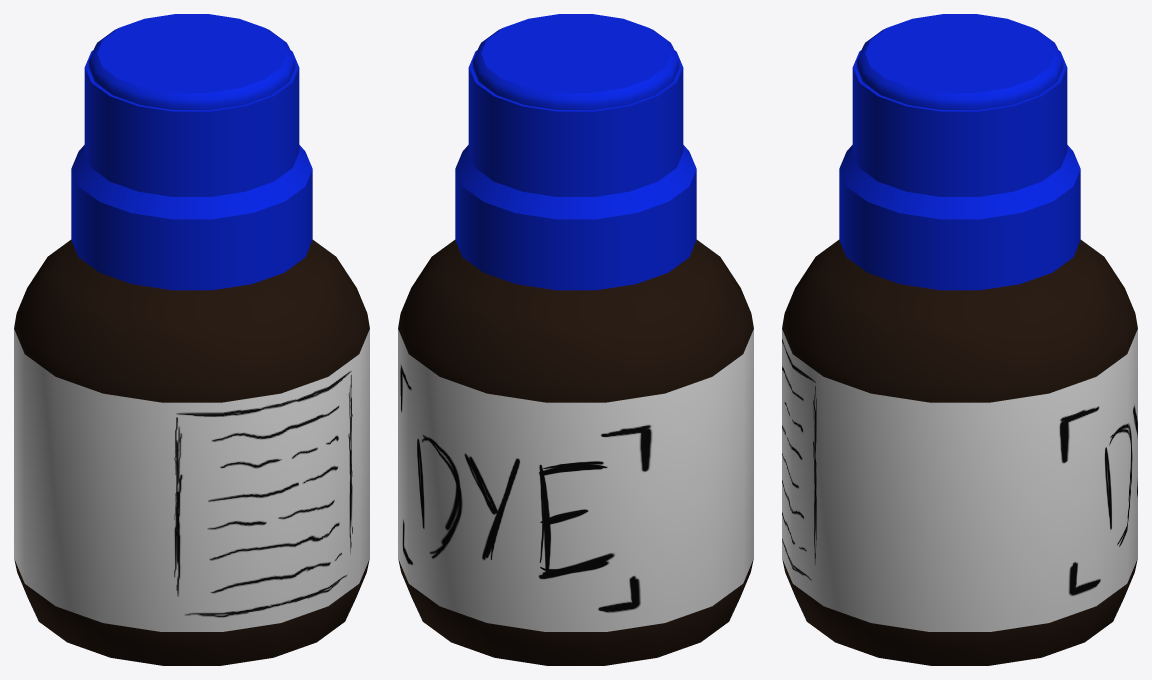
File: coranteAzul.fbx
3 renders of one model, left to right at view 1: azimuth 30°, elevation 25°; view 2: azimuth 150°, elevation 25°; view 3: azimuth 270°, elevation 25°, orthographic.
Visible parts, largest first — view 1: Corante, Tampa; view 2: Corante, Tampa; view 3: Corante, Tampa.
Boxes of the visible parts, box(x1,y1,x2,y2) form: Corante: box(14, 240, 369, 665); Tampa: box(71, 14, 312, 290); Corante: box(398, 240, 753, 665); Tampa: box(455, 14, 696, 290); Corante: box(782, 240, 1137, 665); Tampa: box(839, 14, 1080, 290).
Size of the model in its own units: 215 by 369 by 218.
